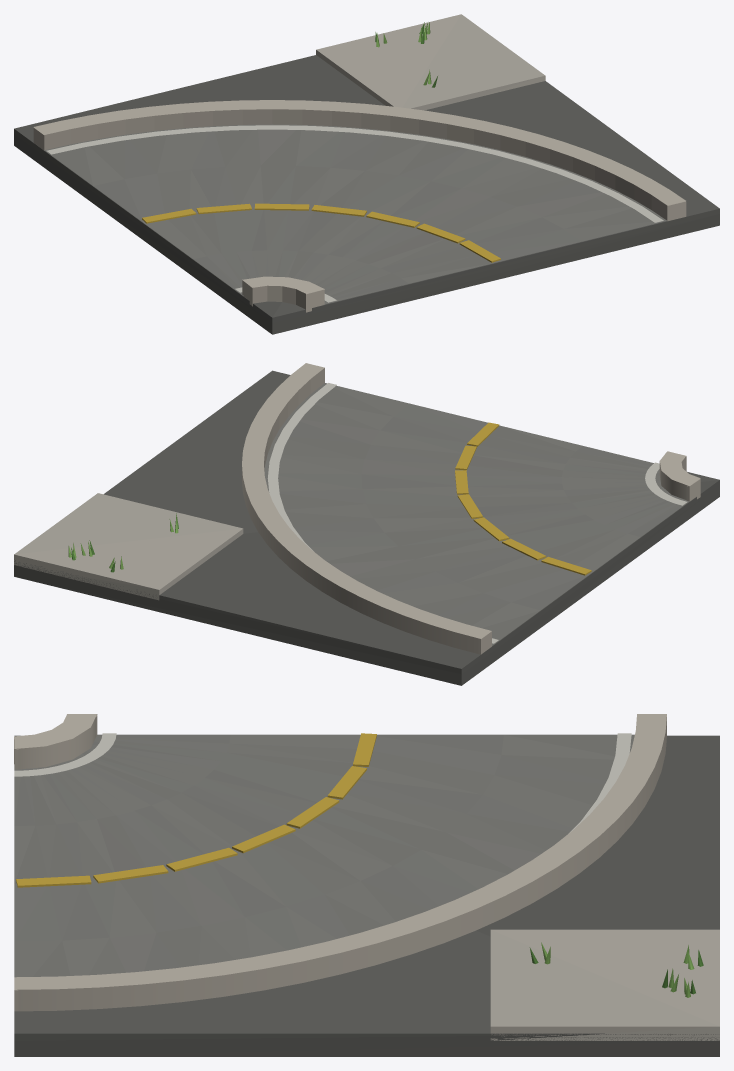
Rendered from road-corner.glb.
3 renders of one model, top to bottom at view 1: azimuth 30°, elevation 25°; view 2: azimuth 150°, elevation 25°; view 3: azimuth 270°, elevation 25°, orthographic. The views are drawn at different scales.
Parts seen in each view (by area): view 1: road_corner; view 2: road_corner; view 3: road_corner.
Boxes of the visible parts, x1,y1,x2,y2 form: road_corner: (14, 14, 719, 334); road_corner: (14, 363, 719, 685); road_corner: (14, 714, 719, 1056).
Size of the model in its own units: 4 by 0.3219 by 4.
